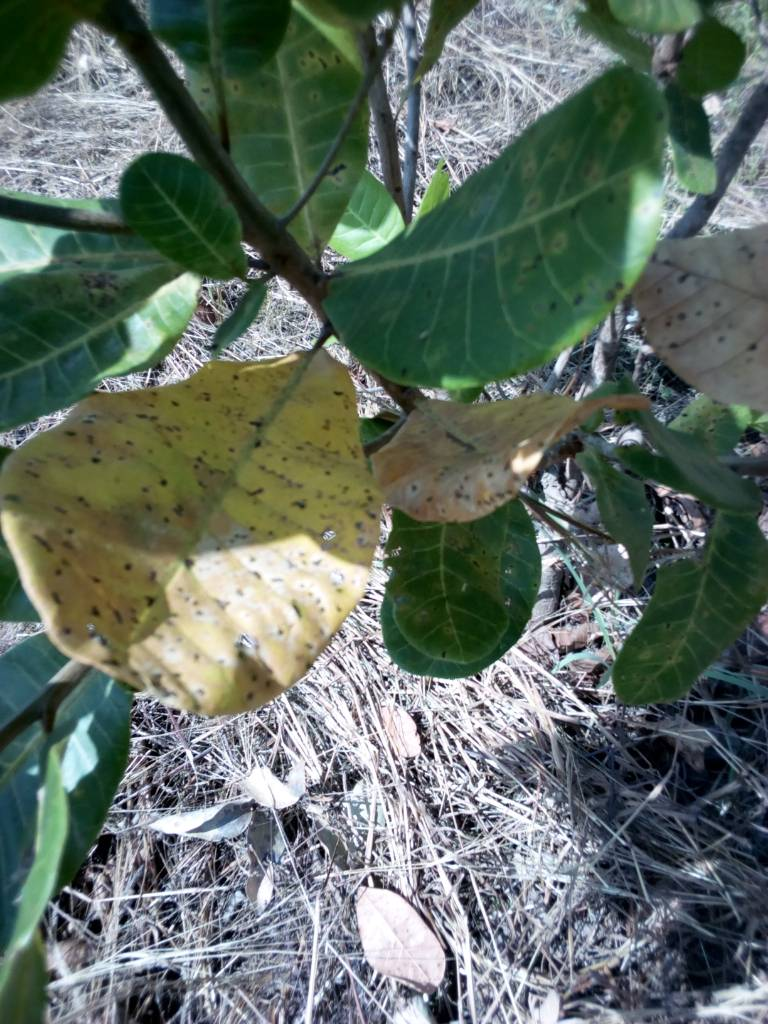Anthracnose: (4, 378, 374, 722)
